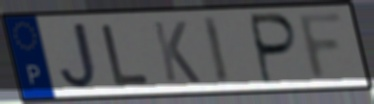F: (295, 9, 348, 85)
I: (199, 14, 233, 88)
J: (57, 20, 100, 92)
K: (150, 19, 203, 86)
L: (100, 22, 153, 88)
P: (249, 12, 301, 87)
